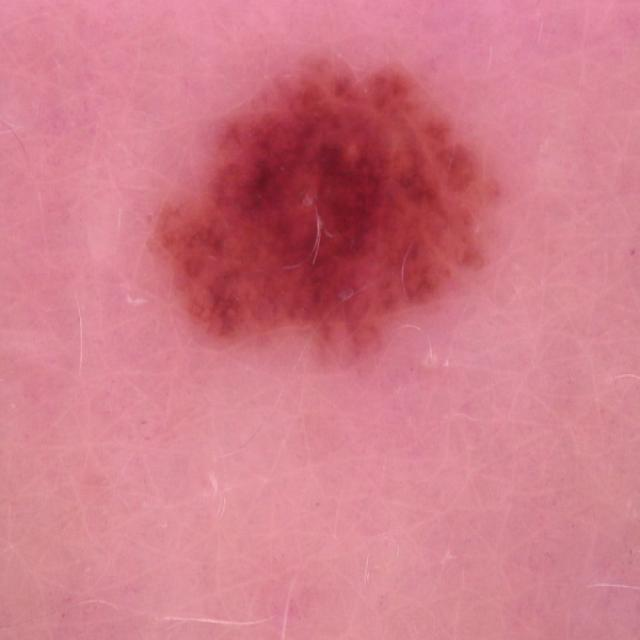NV: (145, 53, 499, 366)
